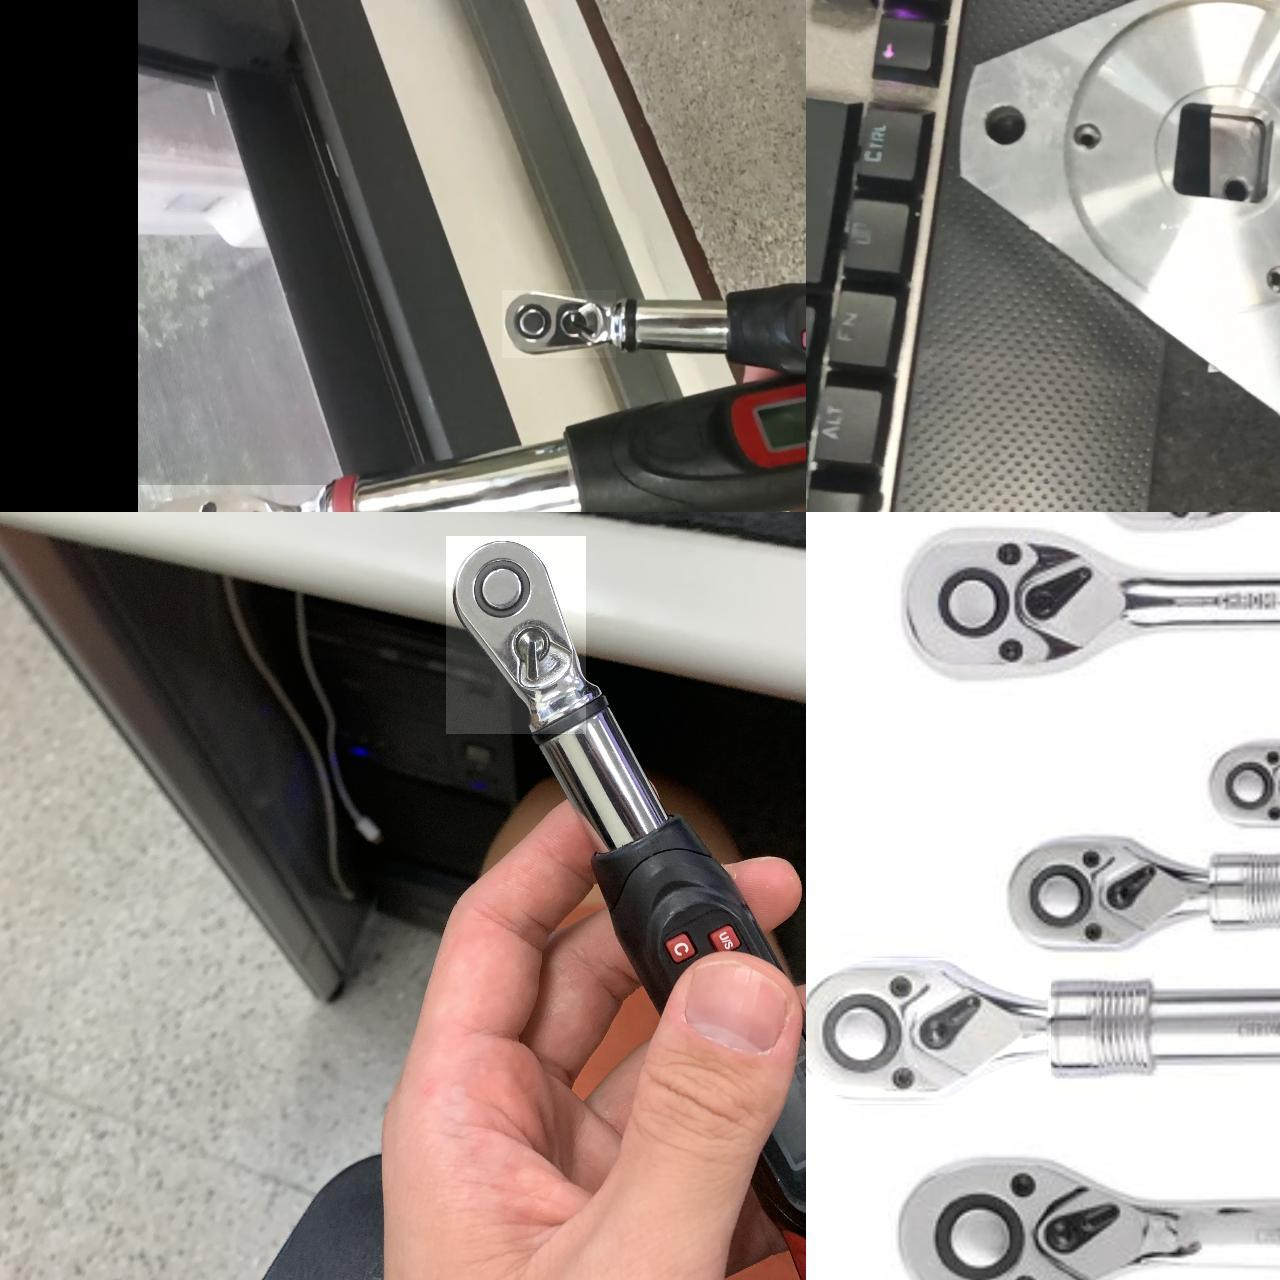Tool: (894, 1149, 1187, 1280), (806, 958, 1050, 1104), (896, 531, 1122, 679), (445, 536, 585, 734), (1000, 829, 1222, 950), (501, 290, 615, 358), (1203, 733, 1280, 832), (137, 485, 325, 512)
